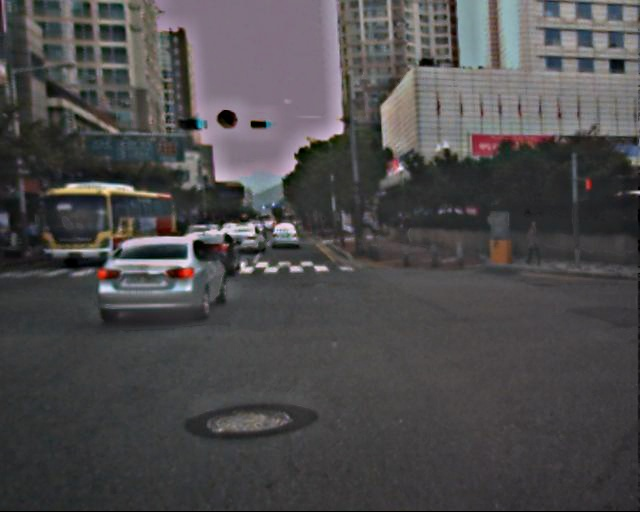person: (522, 219, 543, 271)
